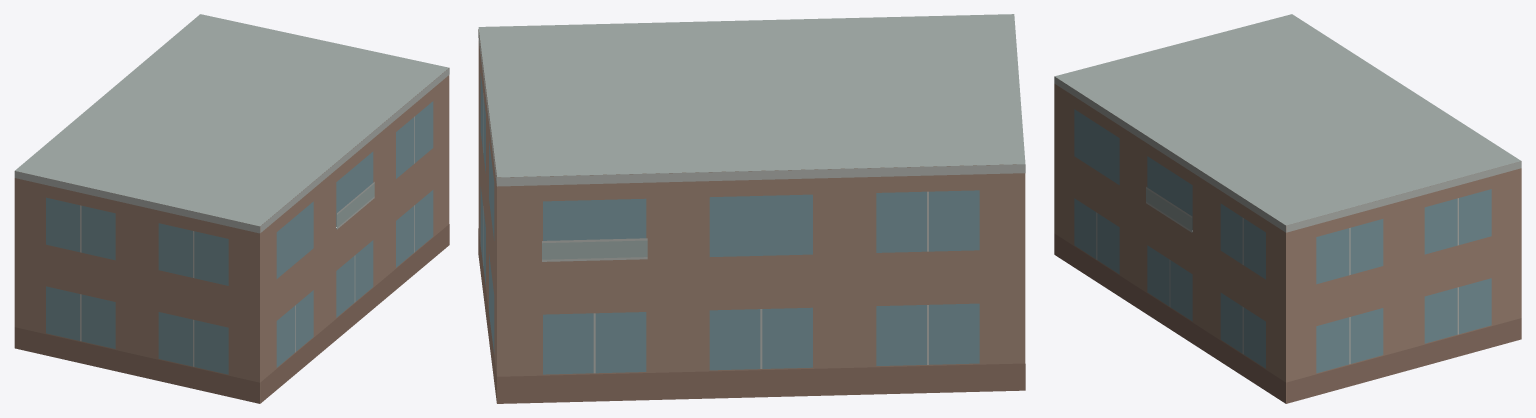
Rendered from survey-upis-32971268.glb.
3 renders of one model, left to right at view 1: azimuth 30°, elevation 25°; view 2: azimuth 150°, elevation 25°; view 3: azimuth 270°, elevation 25°, orthographic. The views are drawn at different scales.
Visible parts, largest first — view 1: survey-upis-32971268.tmp; view 2: survey-upis-32971268.tmp; view 3: survey-upis-32971268.tmp.
Boxes of the visible parts, <box> form: survey-upis-32971268.tmp: <box>14,14,449,403</box>; survey-upis-32971268.tmp: <box>478,14,1025,403</box>; survey-upis-32971268.tmp: <box>1054,14,1521,403</box>.
Bounding box in the file's own units: 15.54 × 6.1 × 14.5.
